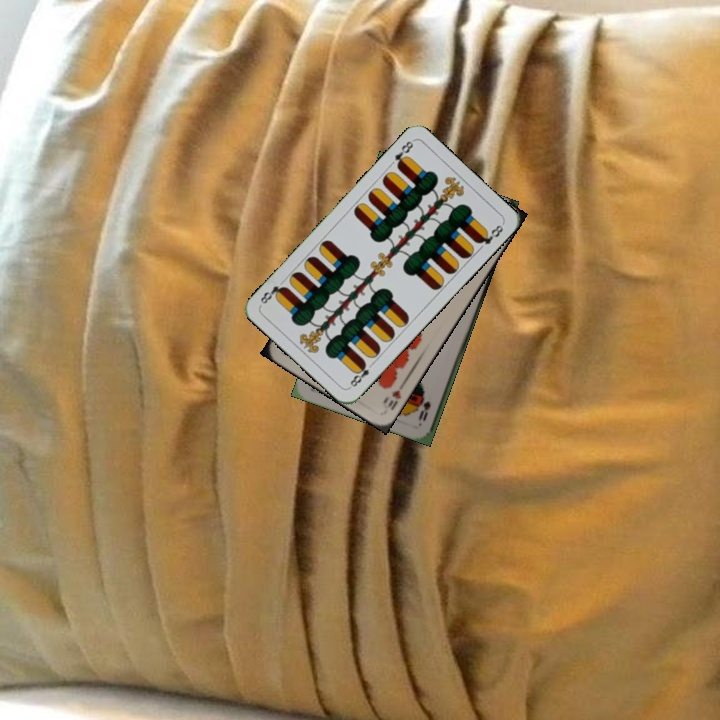E8: (345, 358, 377, 391), (390, 136, 416, 171)
H10: (379, 377, 408, 413)
SO: (414, 397, 433, 423)
